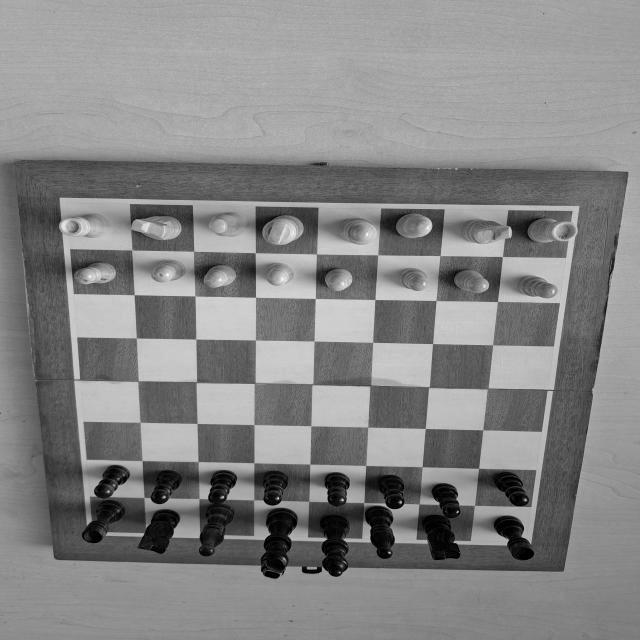chess-table-corners: (53, 194, 81, 212), (561, 203, 585, 219)
